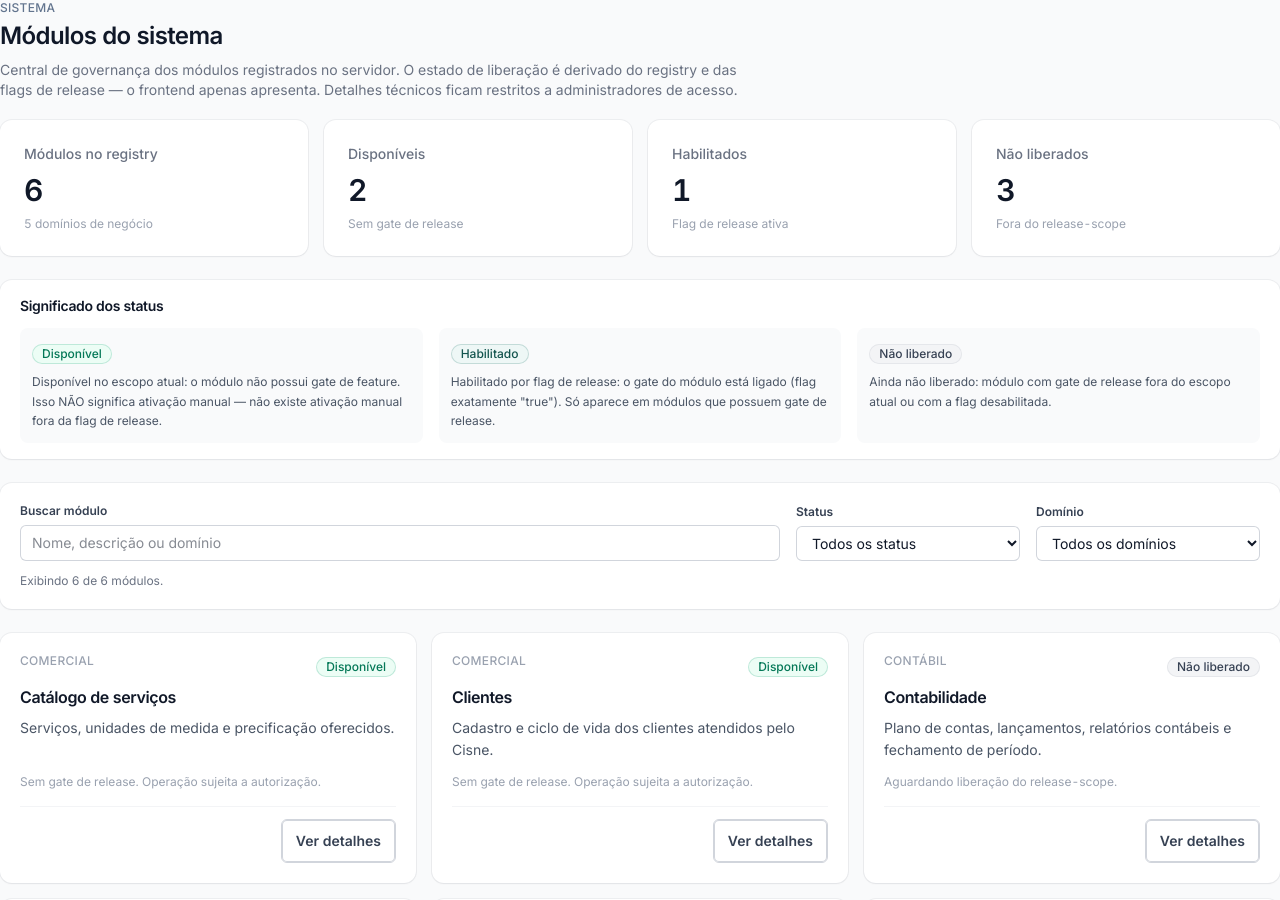
ModulesRegistryPage — governança do registry › shows a not-found failure inside the drawer for unknown modules
Expected: the text "Módulos no registry" is shown, [24, 145, 158, 162]
Click the button "Ver detalhes" below "Catálogo de serviços" at x=338, y=841, box [281, 819, 396, 863]
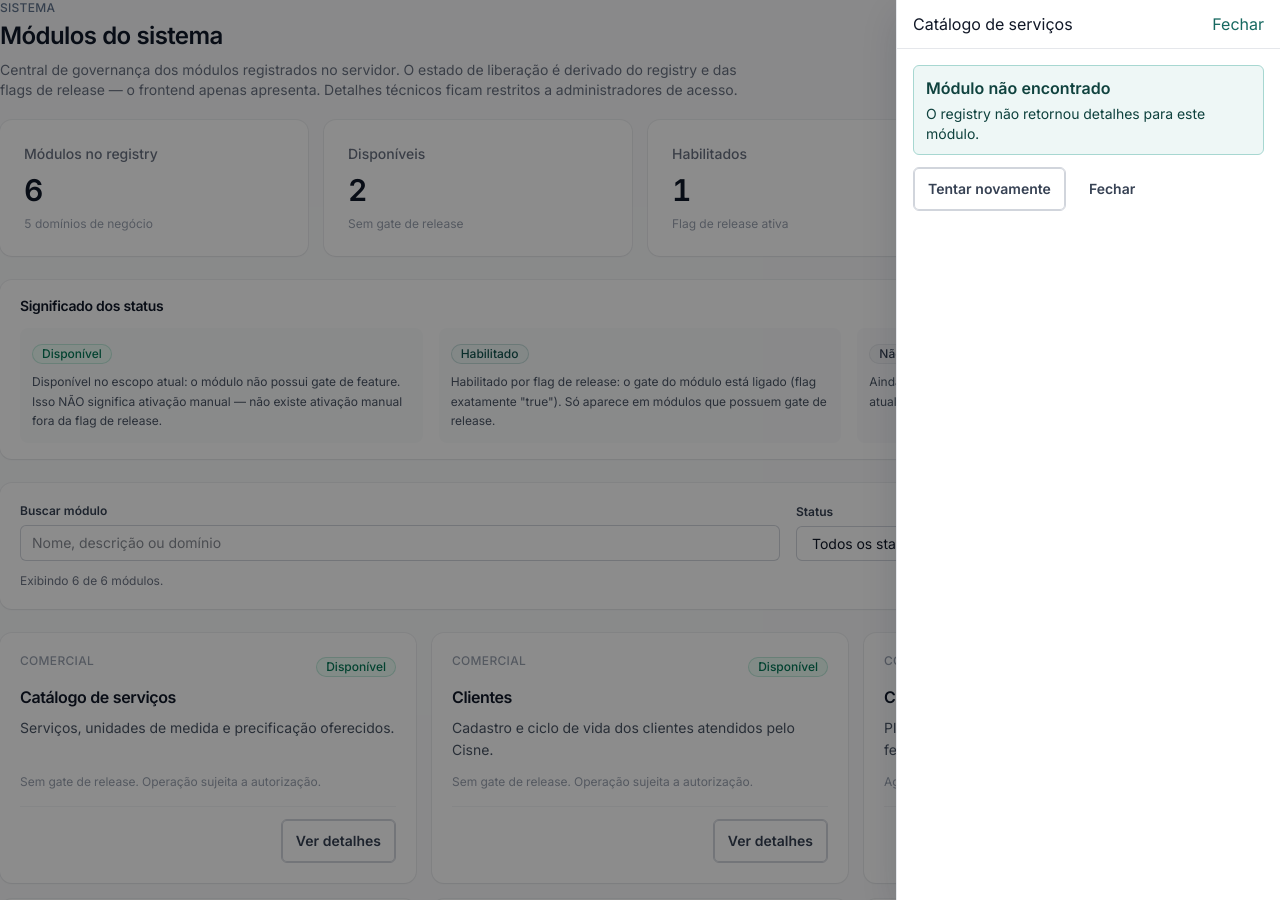
Now the heading "Módulo não encontrado" is shown, box [926, 78, 1110, 98]
